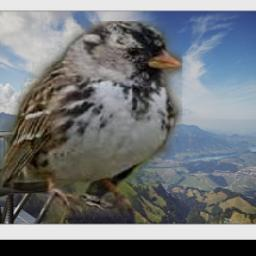Sparrow: (0, 21, 181, 218)
